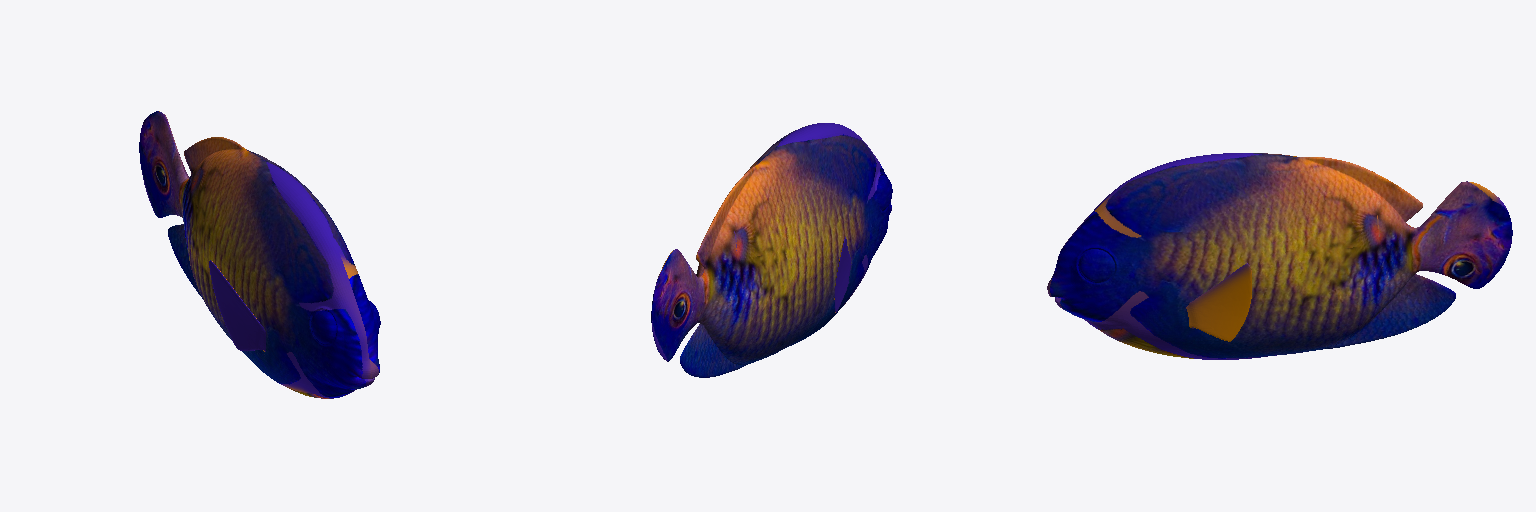
The picture shows the model from 3 angles: view 1: azimuth 30°, elevation 25°; view 2: azimuth 150°, elevation 25°; view 3: azimuth 270°, elevation 25°; orthographic projection.
Parts seen in each view (by area): view 1: 13009_Coral_Beauty_Angelfish_v1_l3.001; view 2: 13009_Coral_Beauty_Angelfish_v1_l3.001; view 3: 13009_Coral_Beauty_Angelfish_v1_l3.001.
Part boxes in pixels (bbox=[...]): 13009_Coral_Beauty_Angelfish_v1_l3.001: bbox=[139, 111, 380, 398]; 13009_Coral_Beauty_Angelfish_v1_l3.001: bbox=[651, 123, 892, 377]; 13009_Coral_Beauty_Angelfish_v1_l3.001: bbox=[1047, 153, 1512, 359].
Size of the model in its own units: 0.369 by 0.5801 by 1.2.
Materials: 1 (1 with a texture image).